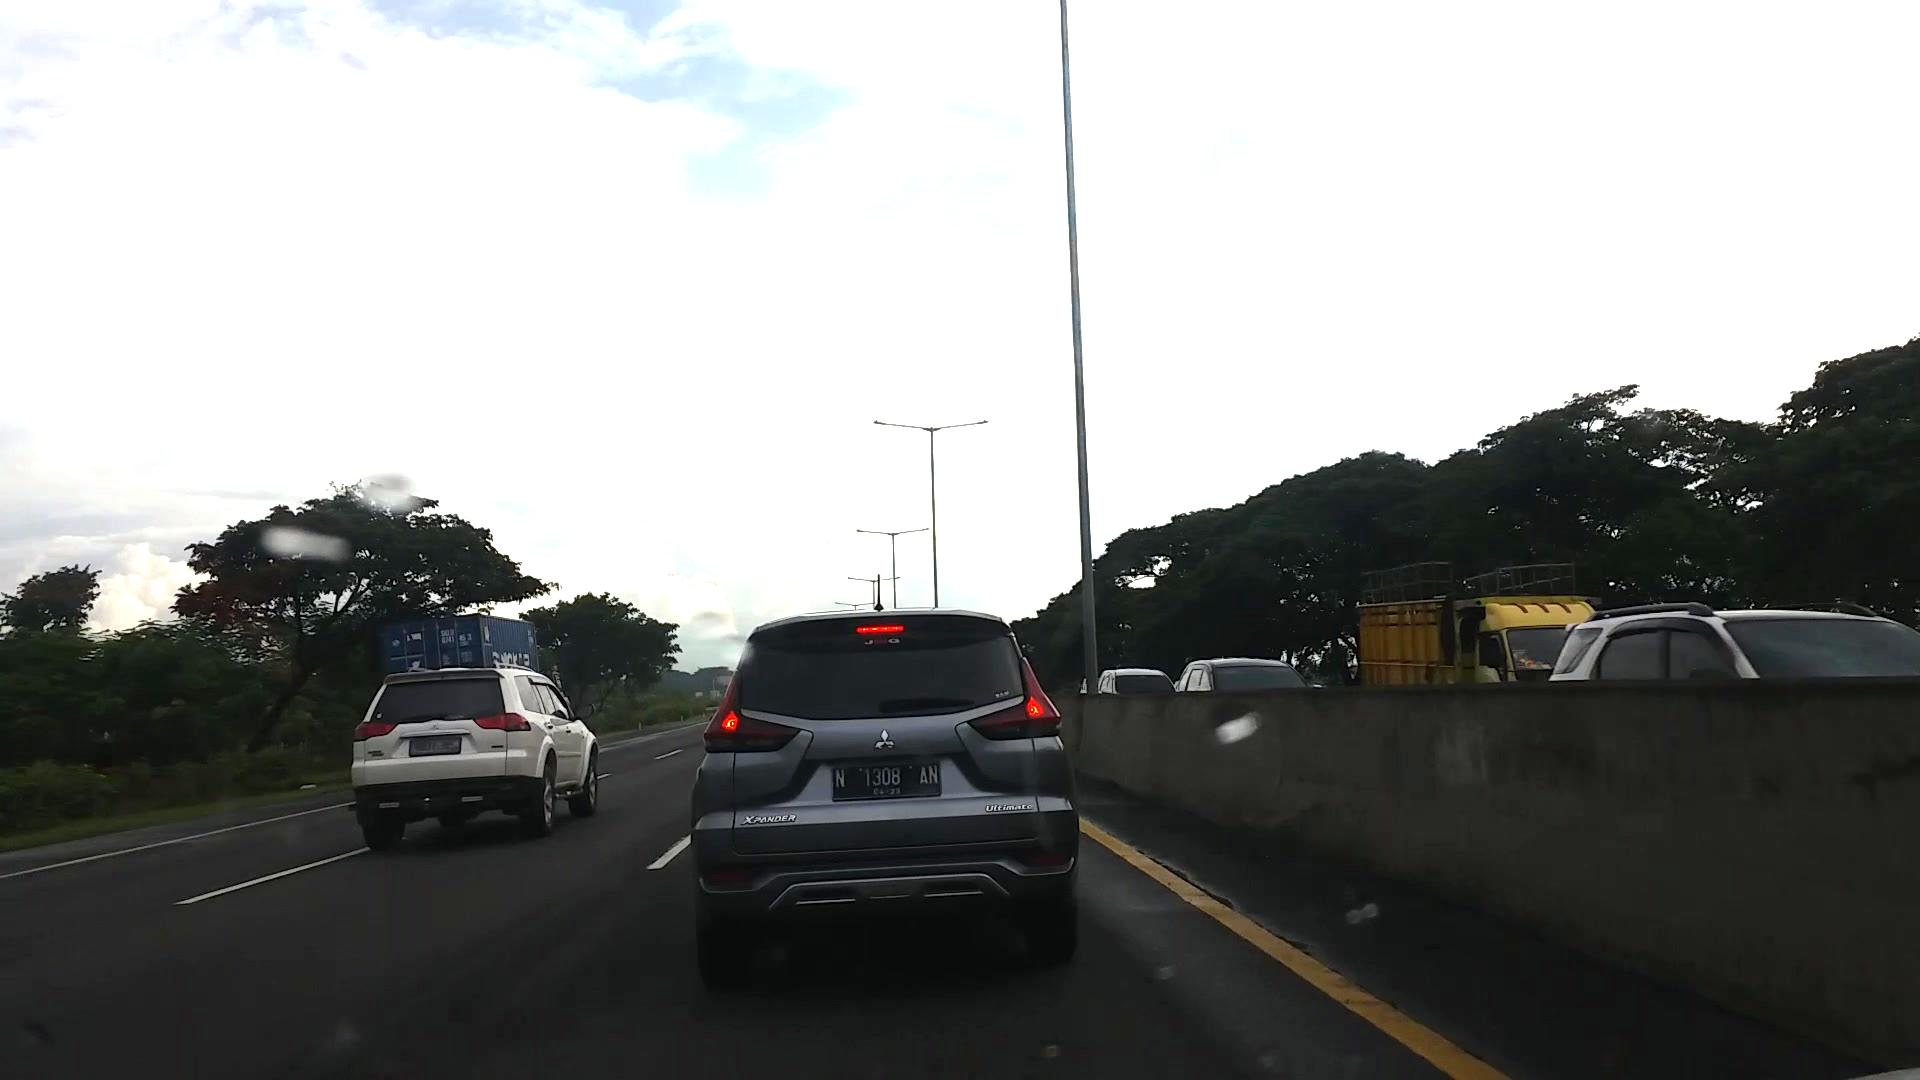plate_positive: (832, 762, 940, 800)
